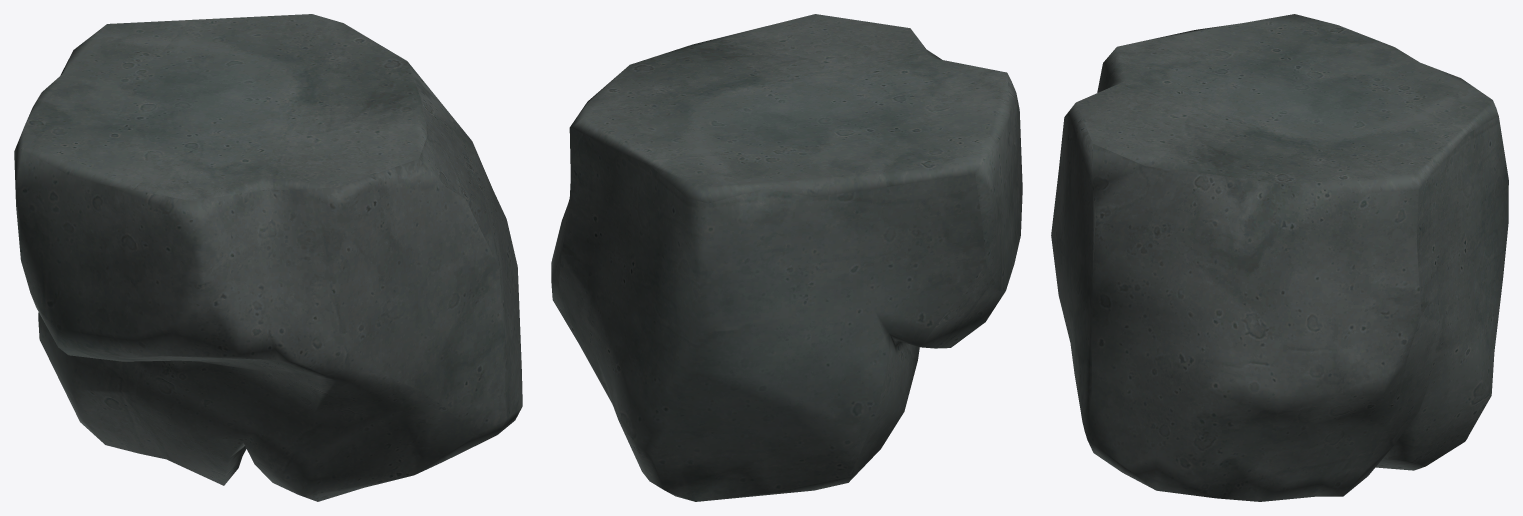
Rendered from Cliff_Cap02.fbx.
3 views of the same model, side by side, from view 1: azimuth 30°, elevation 25°; view 2: azimuth 150°, elevation 25°; view 3: azimuth 270°, elevation 25° (orthographic). The views are drawn at different scales.
Parts seen in each view (by area): view 1: SM_Cliff_Cap_02.mo; view 2: SM_Cliff_Cap_02.mo; view 3: SM_Cliff_Cap_02.mo.
Boxes of the visible parts, x1=… form: SM_Cliff_Cap_02.mo: x1=14, y1=14, x2=522, y2=501; SM_Cliff_Cap_02.mo: x1=551, y1=14, x2=1022, y2=501; SM_Cliff_Cap_02.mo: x1=1051, y1=14, x2=1508, y2=501.
Size of the model in its own units: 586 by 453 by 552.
